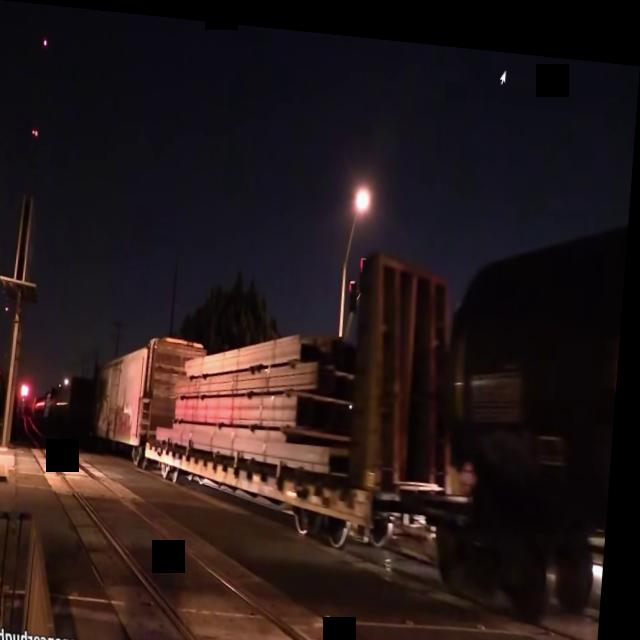boxcar: (92, 331, 157, 454)
cargo: (159, 307, 362, 472)
flatcar_bulkhead: (139, 214, 464, 574)
tank: (427, 175, 632, 625)
